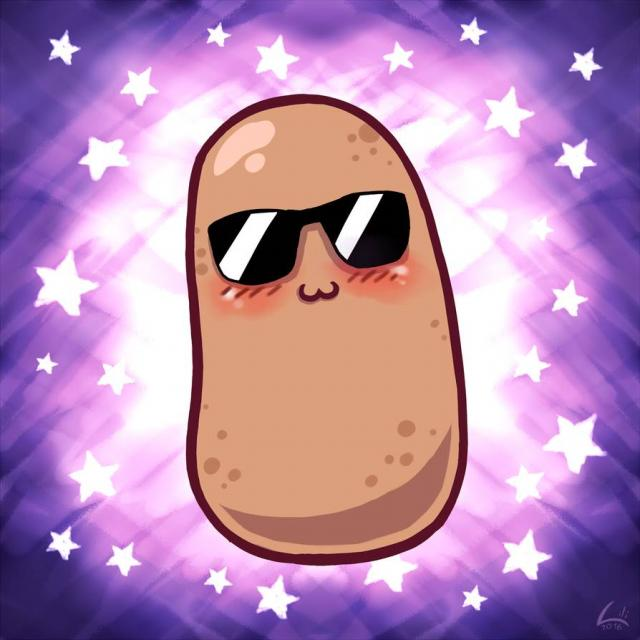potato: (154, 72, 473, 571)
